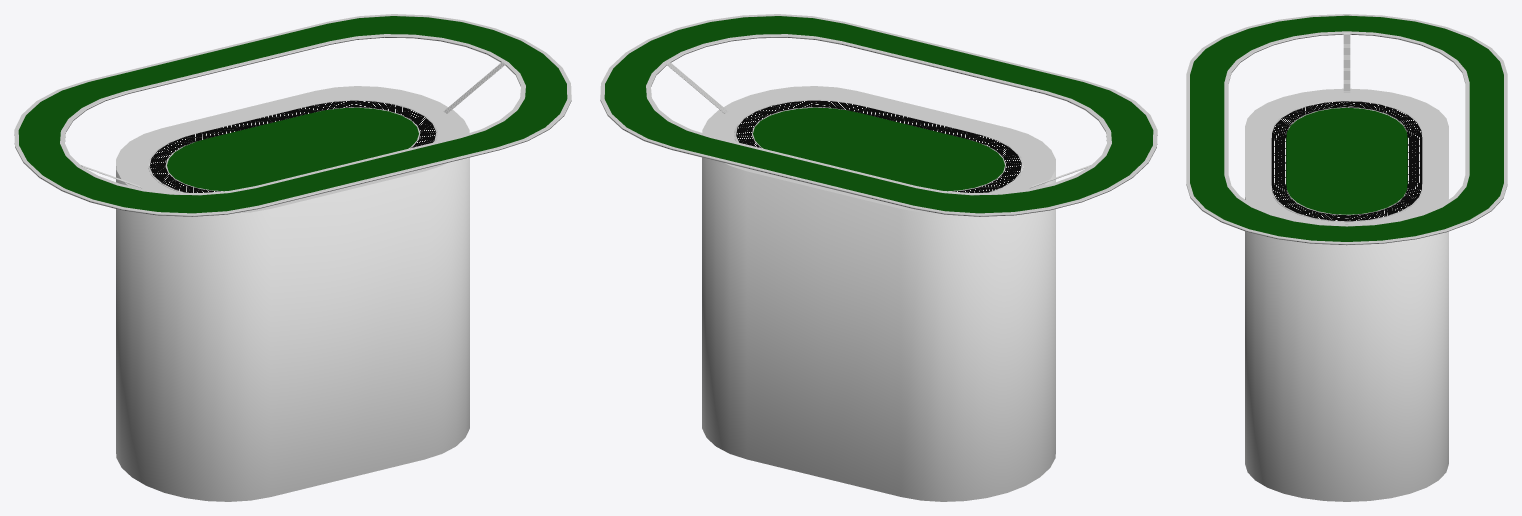
File: Stadium.fbx
The picture shows the model from 3 angles, left to right: view 1: azimuth 30°, elevation 25°; view 2: azimuth 150°, elevation 25°; view 3: azimuth 270°, elevation 25°; orthographic projection. The views are drawn at different scales.
Parts seen in each view (by area): view 1: Base, Base_upper, Field, Plane, Track; view 2: Base, Base_upper, Field, Plane, Track; view 3: Base, Base_upper, Field, Plane, Track, Stairs.001.
Boxes of the visible parts, x1,y1,x2,y2 form: Base: [116, 86, 469, 501]; Base_upper: [14, 14, 571, 216]; Field: [167, 107, 418, 191]; Plane: [149, 100, 436, 192]; Track: [148, 99, 437, 192]; Base: [702, 86, 1055, 501]; Base_upper: [600, 14, 1157, 216]; Field: [753, 107, 1004, 191]; Plane: [736, 100, 1021, 192]; Track: [734, 99, 1023, 192]; Base: [1245, 88, 1448, 501]; Base_upper: [1186, 14, 1507, 245]; Field: [1286, 107, 1407, 214]; Plane: [1271, 101, 1422, 221]; Track: [1271, 100, 1422, 221]; Stairs.001: [1343, 33, 1350, 92].
Size of the model in its own units: 33413 by 20359 by 19740.
